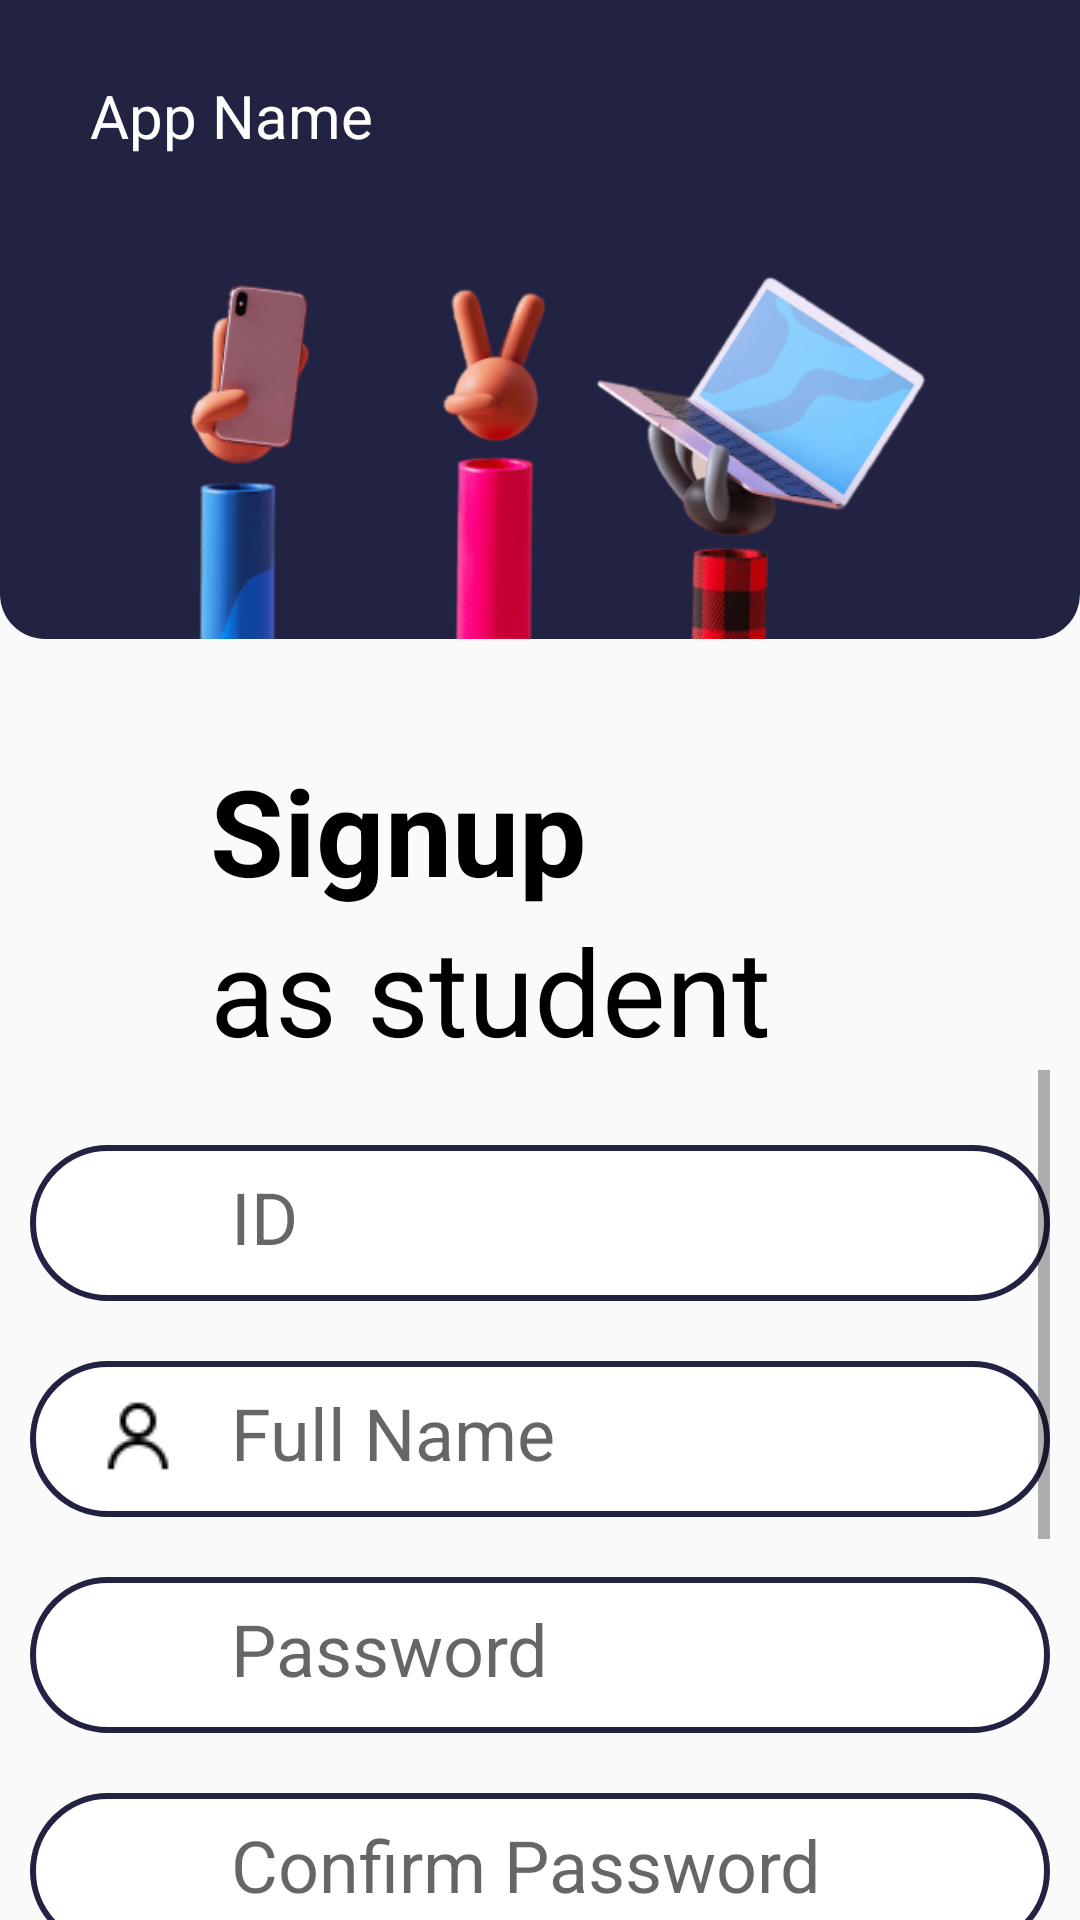

Locate icon controls on the screen. Image size 1080w x 1920h, boxes as (x1, y1, x2, y2).
user: (107, 1402, 169, 1470)
